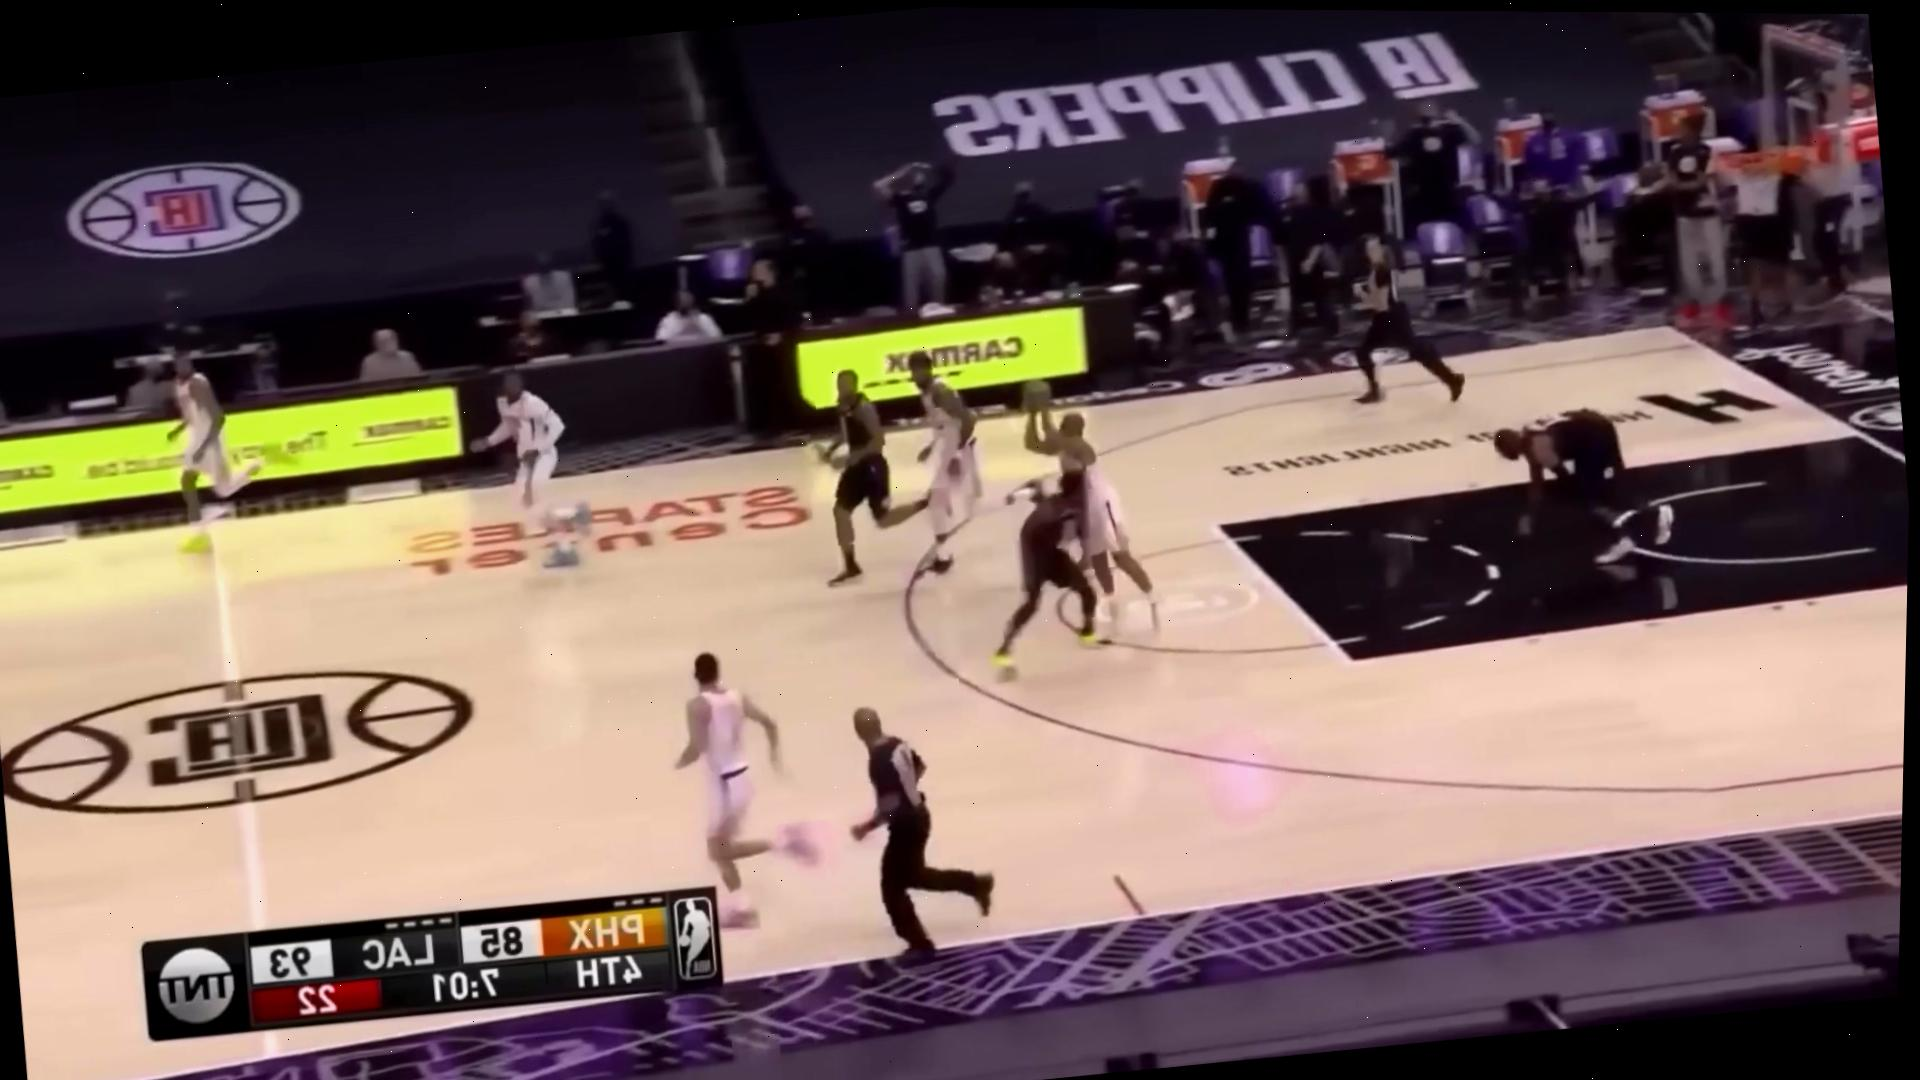foul: (943, 350, 1181, 677)
